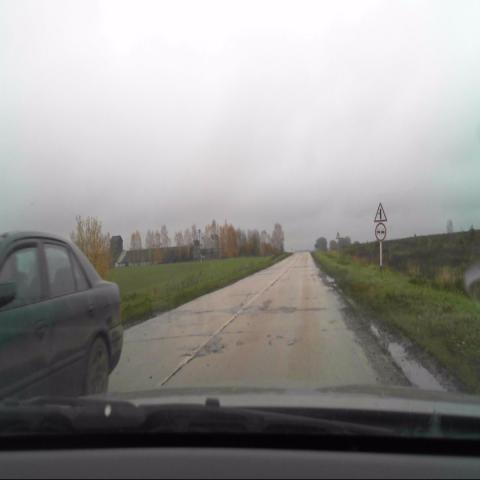3_20: (374, 222, 386, 241)
